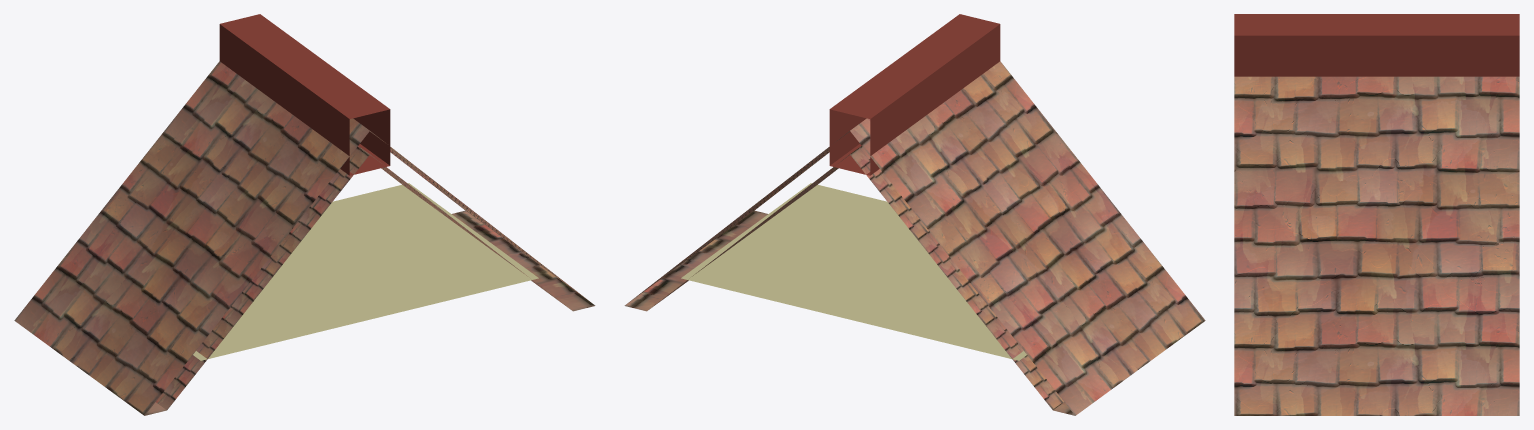
The model's file is roof_6x3x4.fbx.
The picture shows the model from 3 angles, left to right: view 1: azimuth 30°, elevation 25°; view 2: azimuth 150°, elevation 25°; view 3: azimuth 270°, elevation 25°; orthographic projection. The views are drawn at different scales.
Visible parts, largest first — view 1: roof_6x3x4; view 2: roof_6x3x4; view 3: roof_6x3x4.
Boxes of the visible parts, x1=… form: roof_6x3x4: x1=14, y1=14, x2=595, y2=415; roof_6x3x4: x1=624, y1=14, x2=1205, y2=415; roof_6x3x4: x1=1234, y1=14, x2=1519, y2=415.
Bounding box in the file's own units: 800 × 418 × 400.
